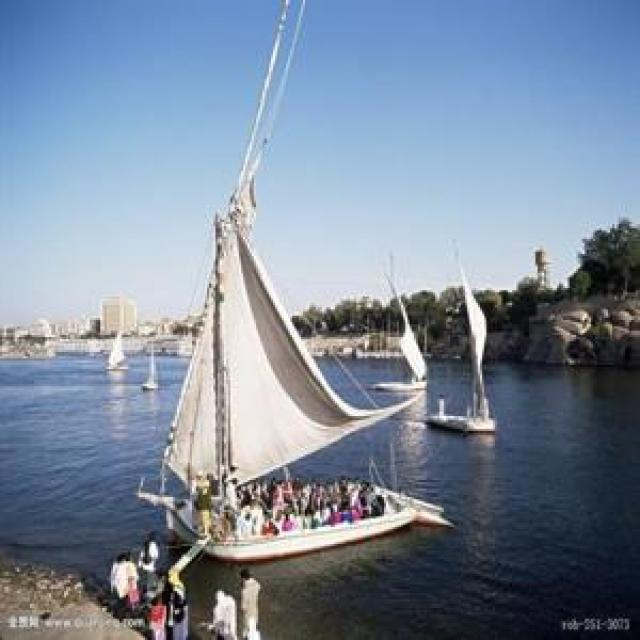sailboat: (151, 188, 436, 550), (424, 241, 504, 440), (359, 270, 432, 392), (96, 328, 130, 372), (139, 346, 161, 394)
